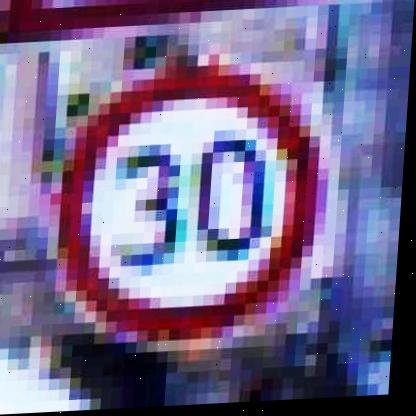Speed Limit -30-: (41, 62, 343, 360)
